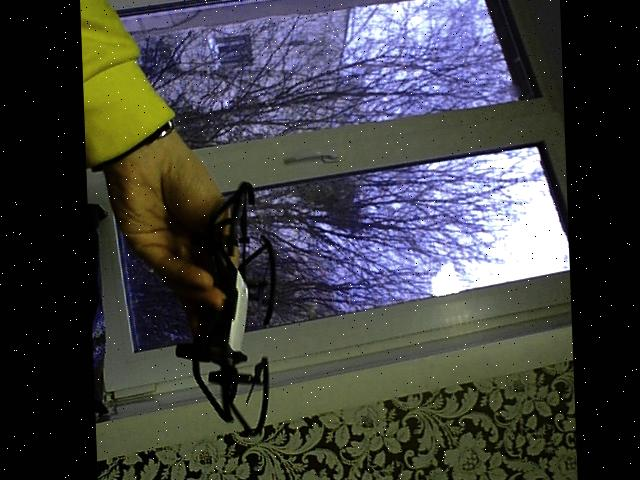drone: (157, 182, 293, 440)
